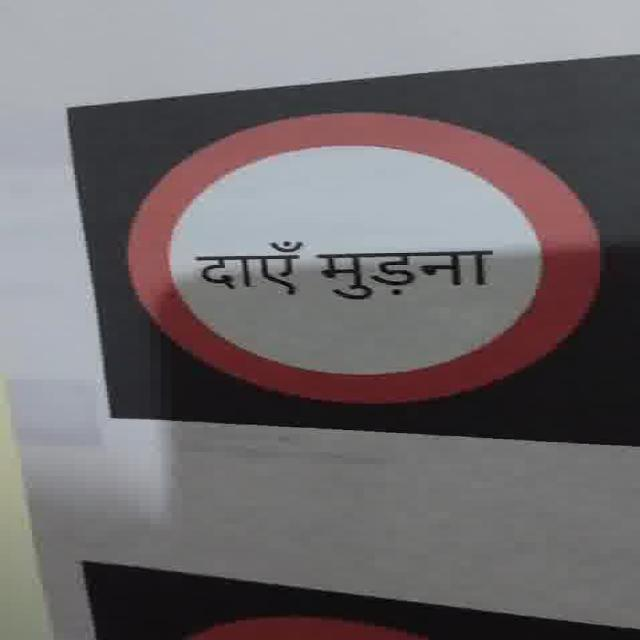hindiright: (67, 54, 637, 444), (191, 239, 497, 300)
